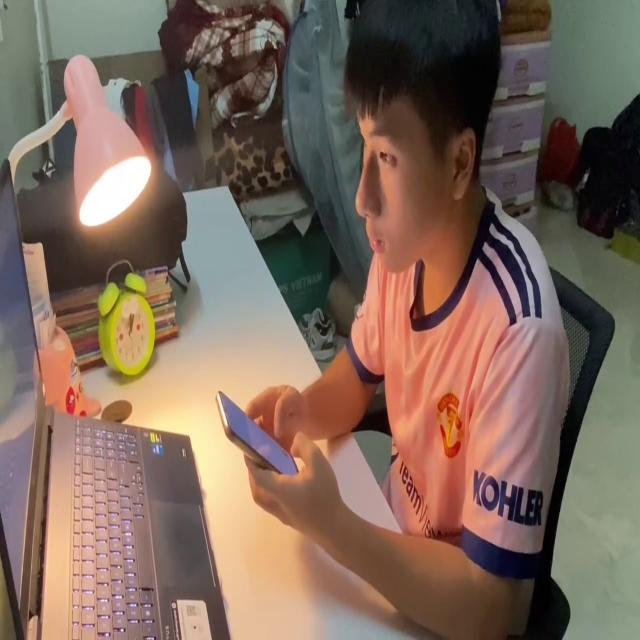laptop: (0, 154, 232, 640)
phone: (213, 380, 301, 488)
student: (244, 0, 568, 640)
